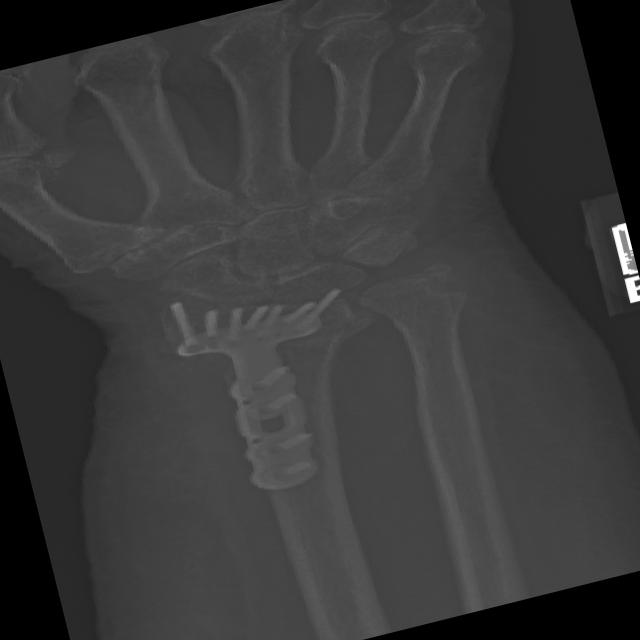fingers positive: (149, 271, 406, 398)
